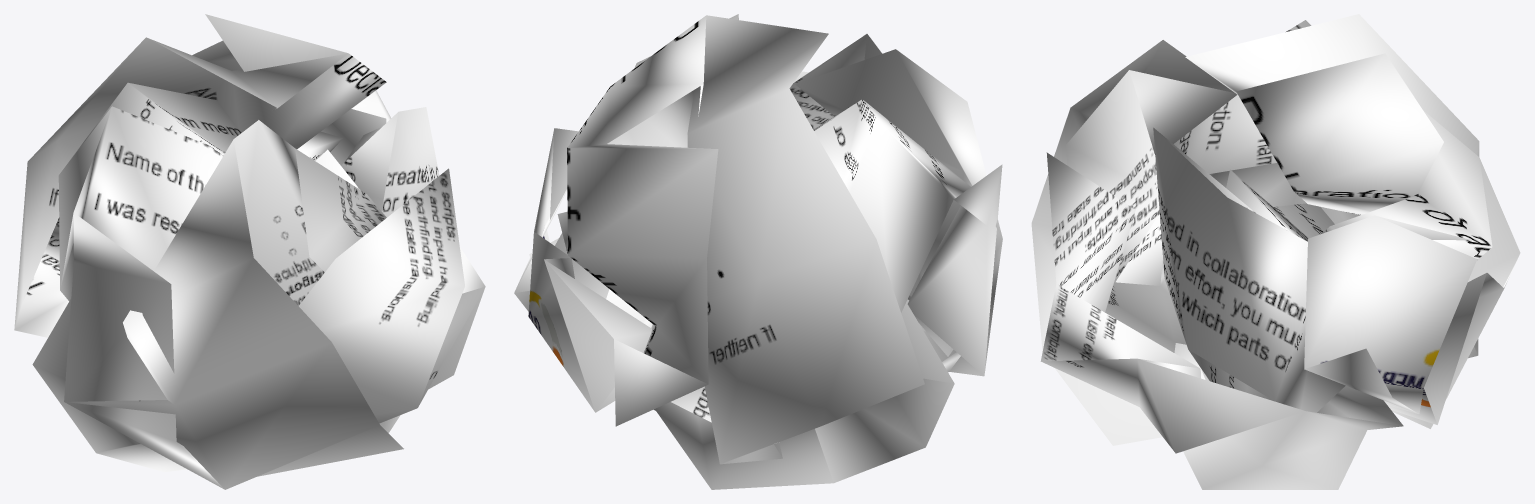
Rendered from Paper_ball.fbx.
3 views of the same model, side by side, from view 1: azimuth 30°, elevation 25°; view 2: azimuth 150°, elevation 25°; view 3: azimuth 270°, elevation 25° (orthographic).
Parts seen in each view (by area): view 1: Paper ball; view 2: Paper ball; view 3: Paper ball.
Part boxes in pixels (bbox=[...]): Paper ball: bbox=[14, 14, 485, 489]; Paper ball: bbox=[514, 14, 1002, 489]; Paper ball: bbox=[1031, 14, 1520, 489].
Size of the model in its own units: 71.52 by 68.9 by 70.57.
